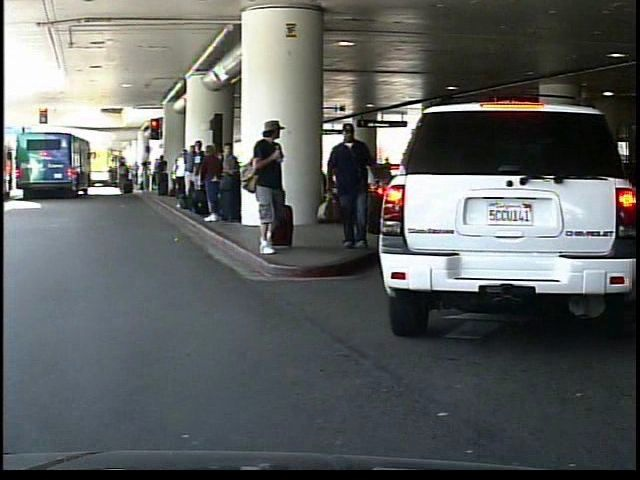person: (328, 122, 385, 253), (249, 119, 298, 255)
